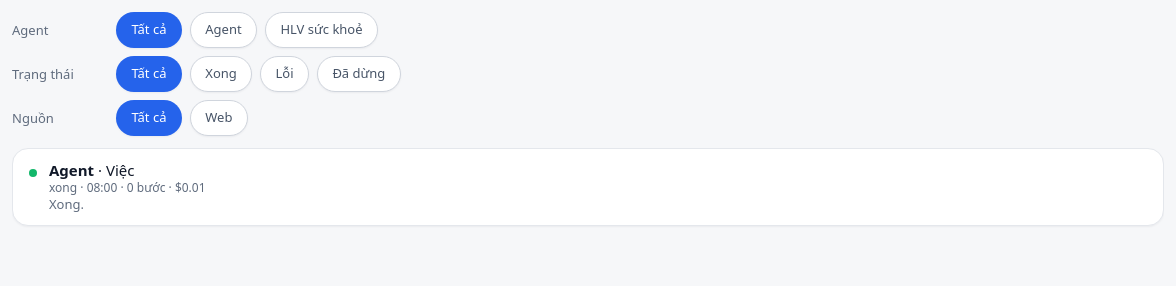
Test: the recent runs log › says when nothing matches, and clears the chips on request
Expected: the element with test id "run-card" is shown, [12,148,1164,226]
Click the button "Đã dừng".
click(359, 74)  # box [317,56,401,92]
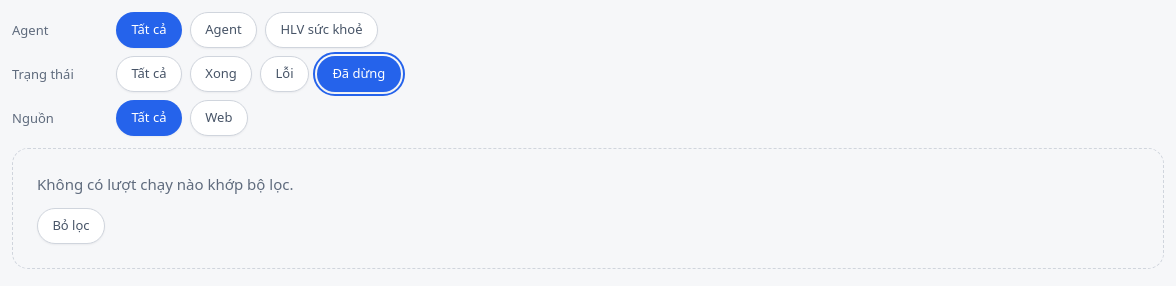
Result: the text "Không có lượt chạy nào khớp bộ lọc." is shown at [37,173,294,196]
Click the button "Bỏ lọc".
click(71, 226)  # box [37,208,105,244]
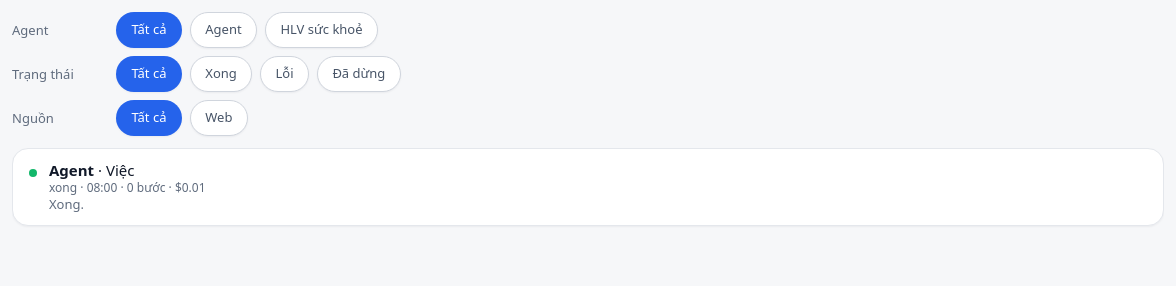
Result: the element with test id "run-card" is shown at [12,148,1164,226]
